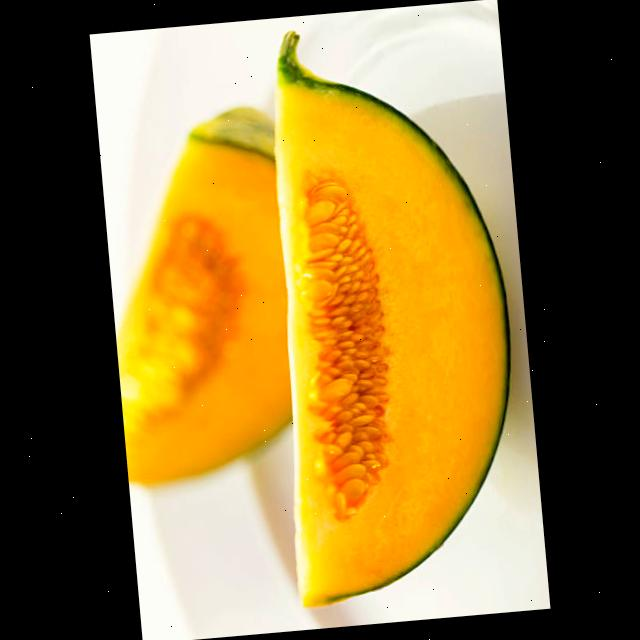Hami Melon: (251, 14, 534, 608)
